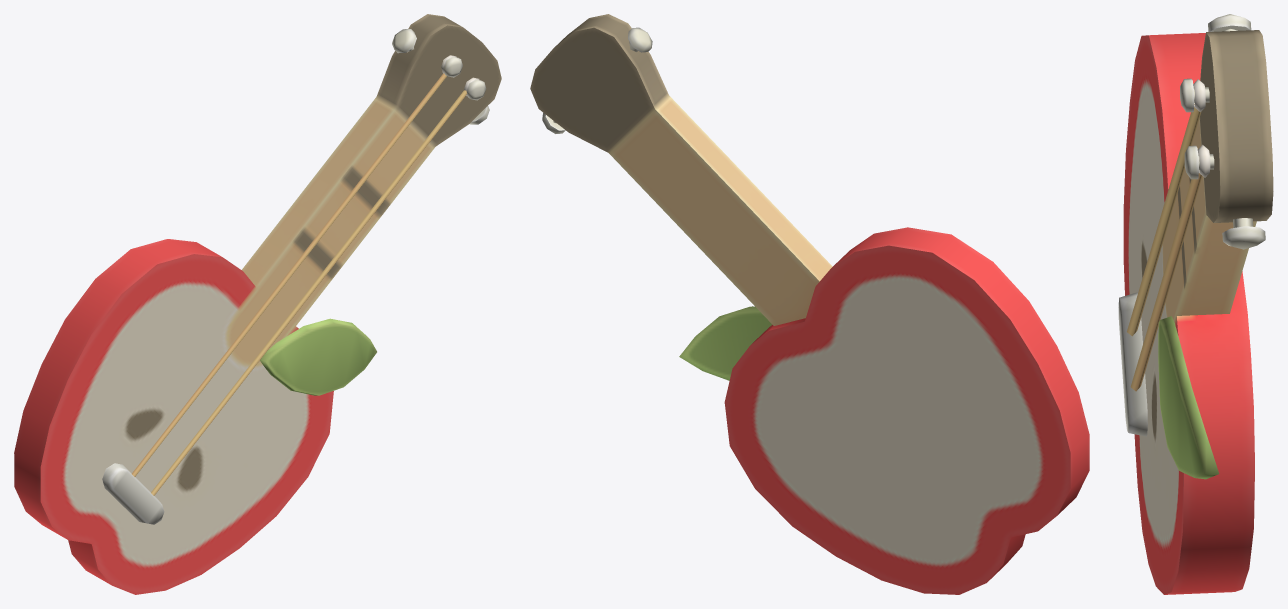
File: SM_messengerBag17.fbx
3 renders of one model, left to right at view 1: azimuth 30°, elevation 25°; view 2: azimuth 150°, elevation 25°; view 3: azimuth 270°, elevation 25°, orthographic. The views are drawn at different scales.
Parts seen in each view (by area): view 1: messengerBag; view 2: messengerBag; view 3: messengerBag.
Boxes of the visible parts, box(x1,y1,x2,y2) form: messengerBag: box(14, 14, 501, 594); messengerBag: box(530, 14, 1089, 594); messengerBag: box(1118, 14, 1273, 594).
Size of the model in its own units: 51.81 by 47.74 by 8.81.
